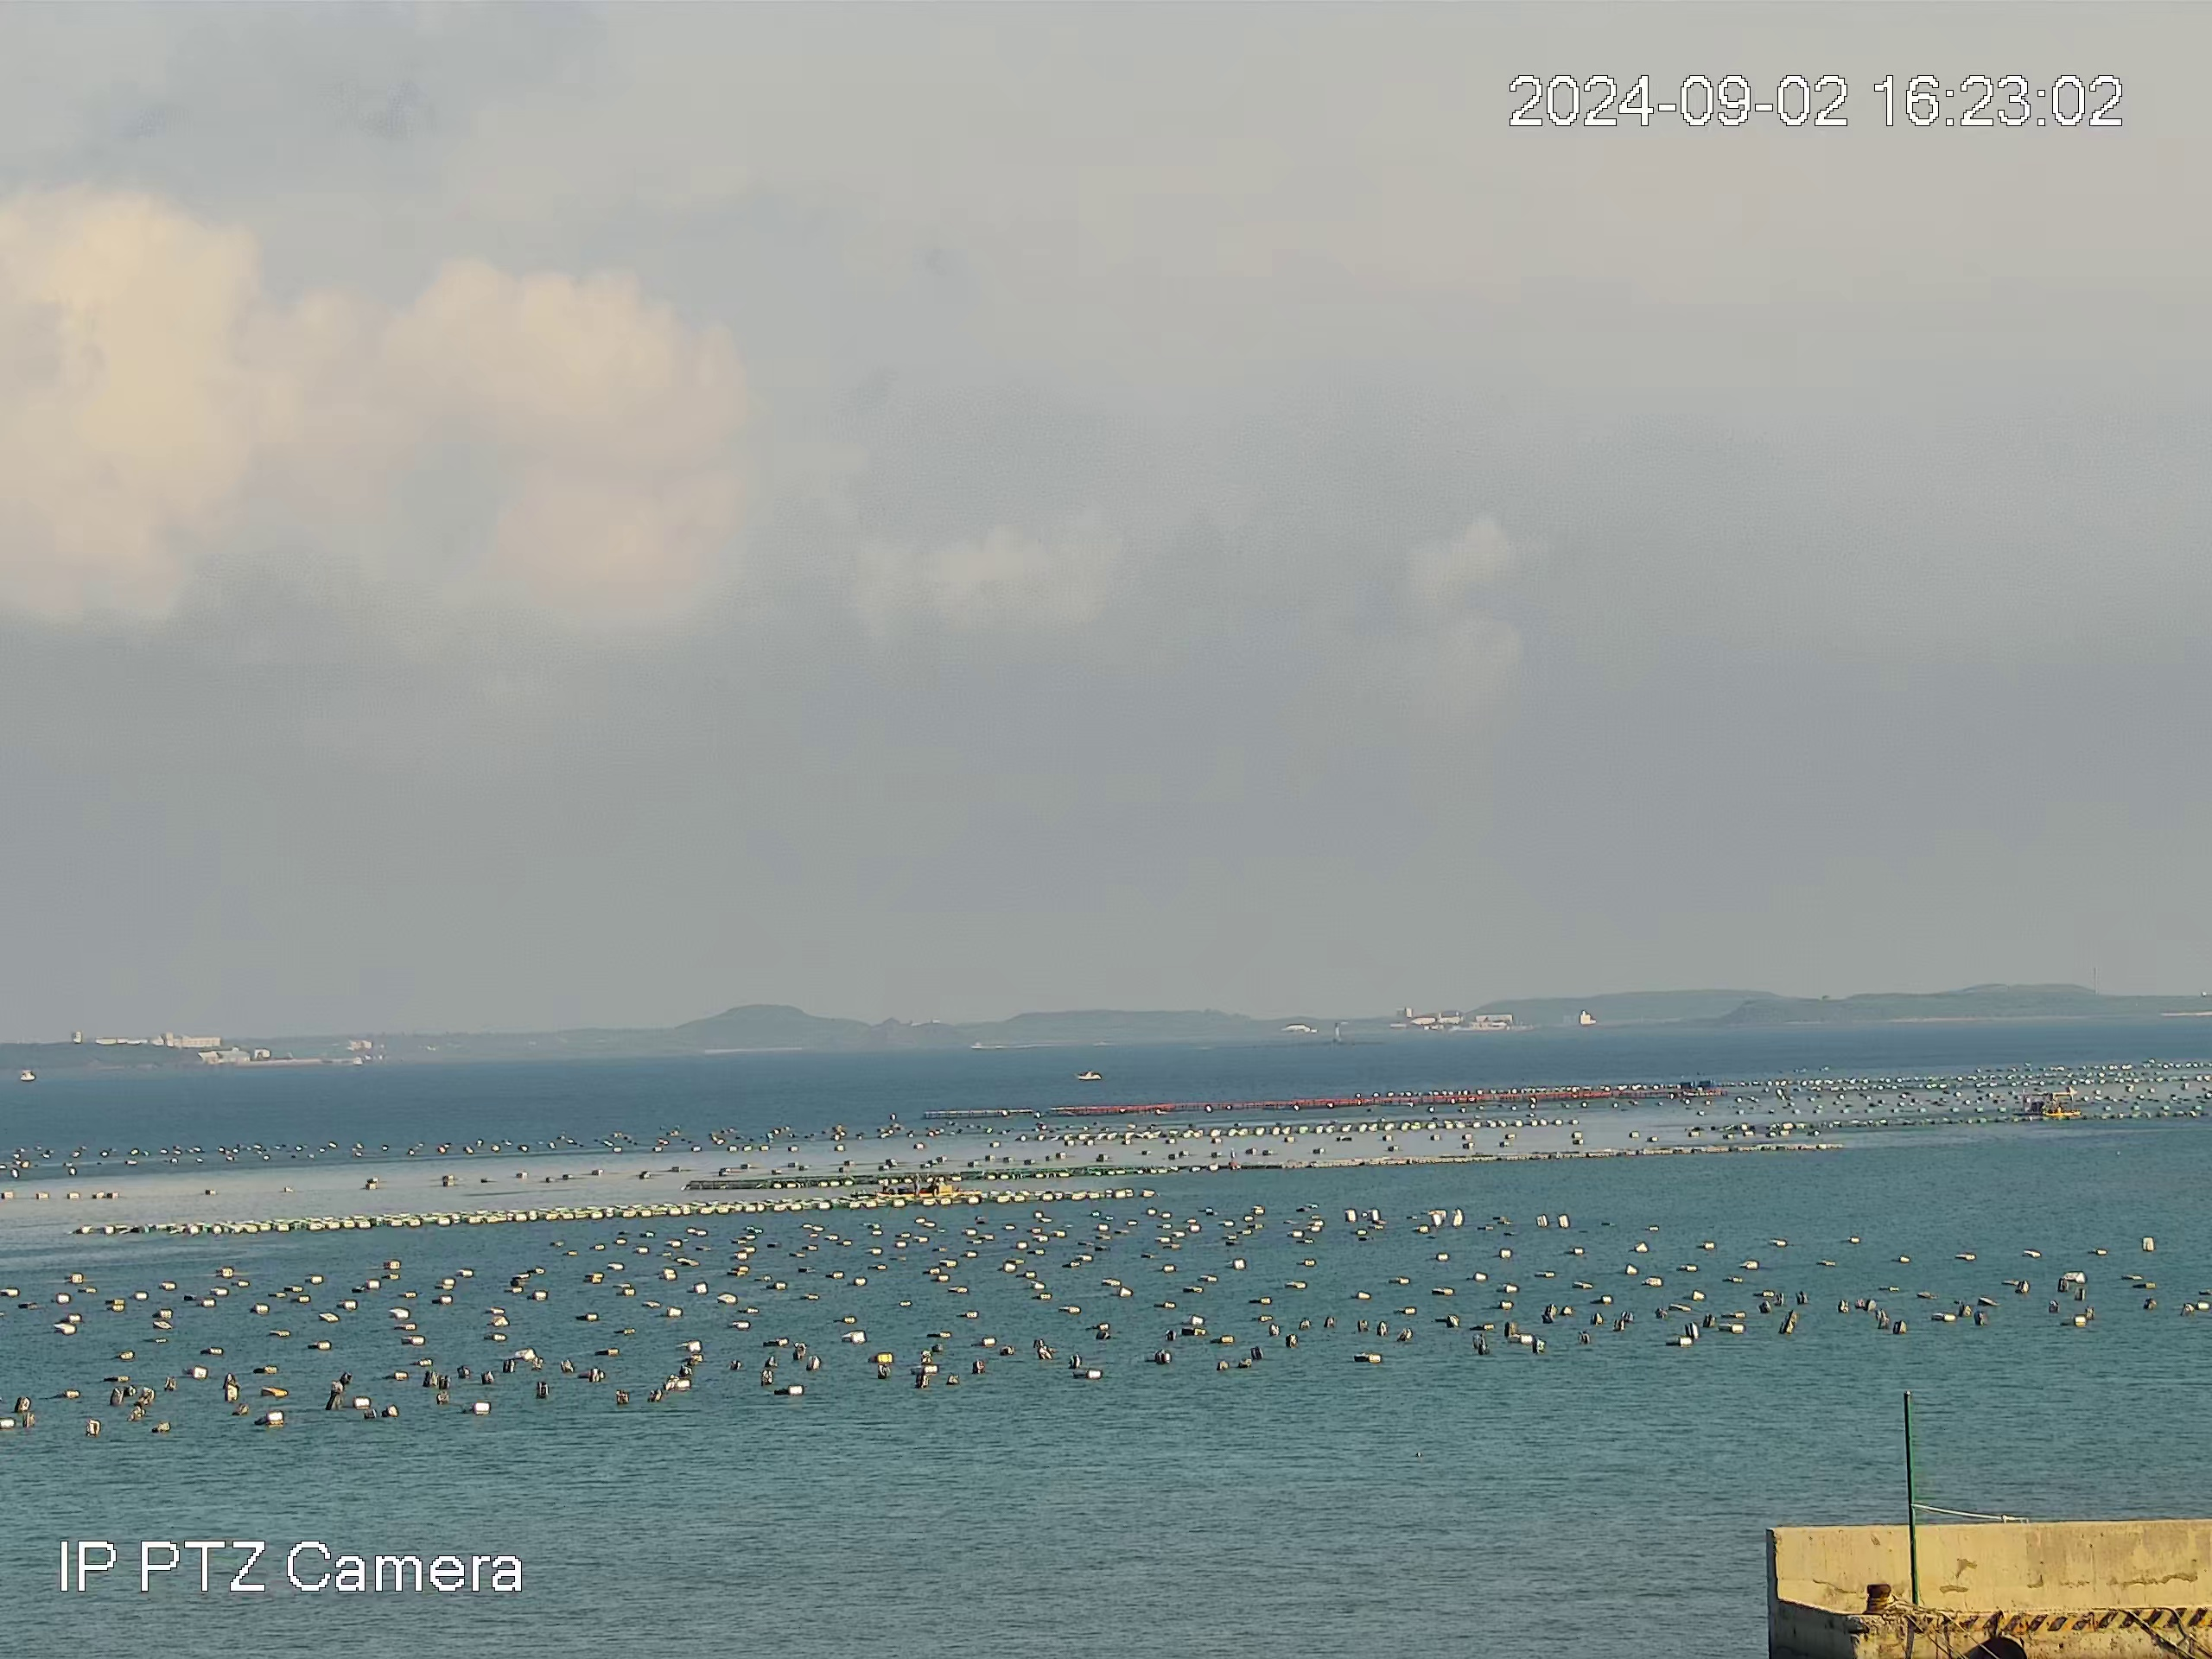boat: (876, 1173, 982, 1197), (2012, 1086, 2081, 1119), (1075, 1068, 1103, 1082)
